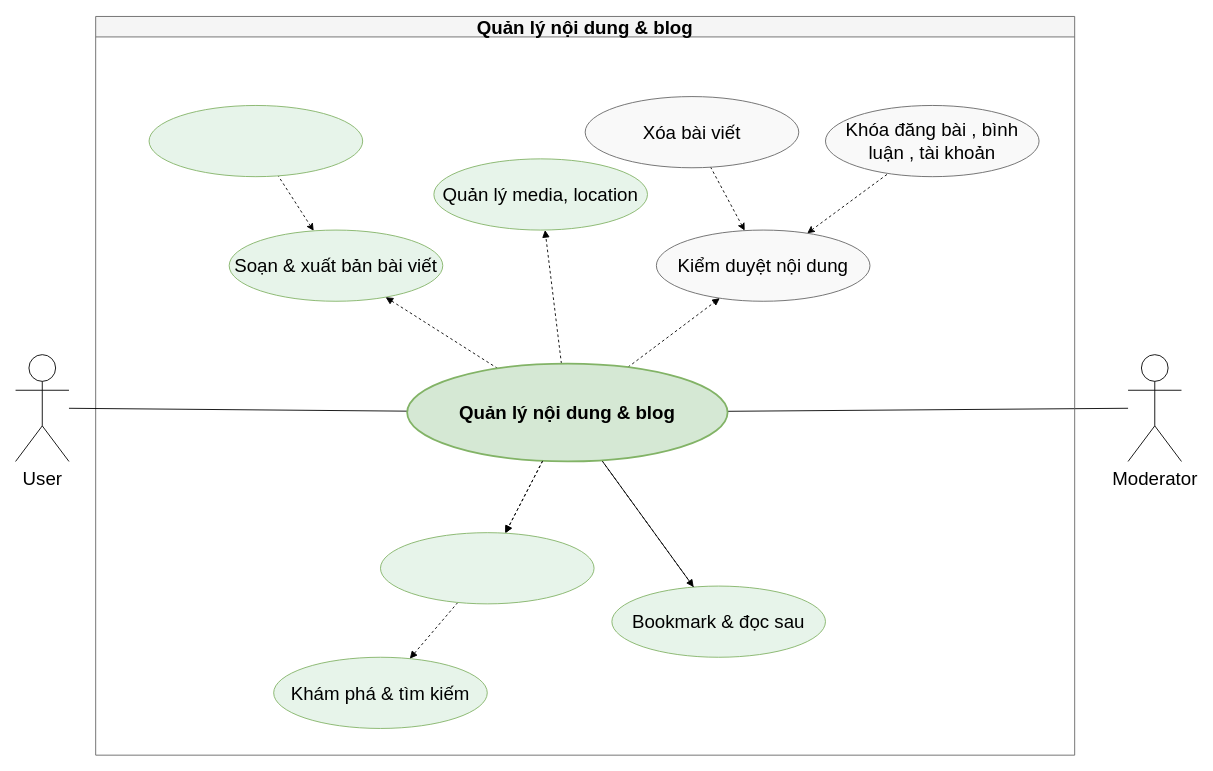
This 1213x771 diagram has some shape labels left out. Here are the shapes that lost their labels. From the top down, the centre of each, then its label:
At pixel 255 141: "CRUD Bài viết".
At pixel 487 568: "Tương tác (like/comment/share)".
